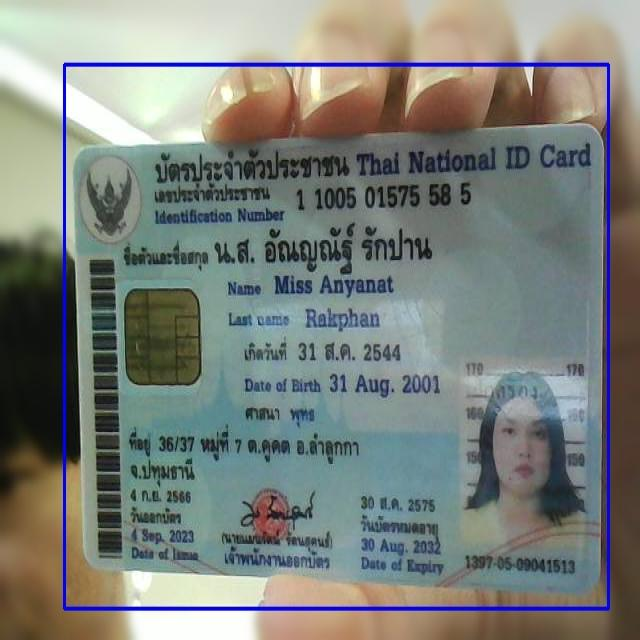Address_th: (126, 421, 367, 489)
Date_of_Birth: (325, 367, 445, 402)
Date_of_Expiry: (356, 531, 446, 562)
Date_of_Issue: (129, 525, 199, 548)
First_Name: (270, 271, 398, 301)
ID_Number: (290, 178, 477, 218)
Image: (460, 357, 588, 559)
Last_Name: (299, 303, 385, 336)
Thai_Name: (212, 220, 440, 276)
